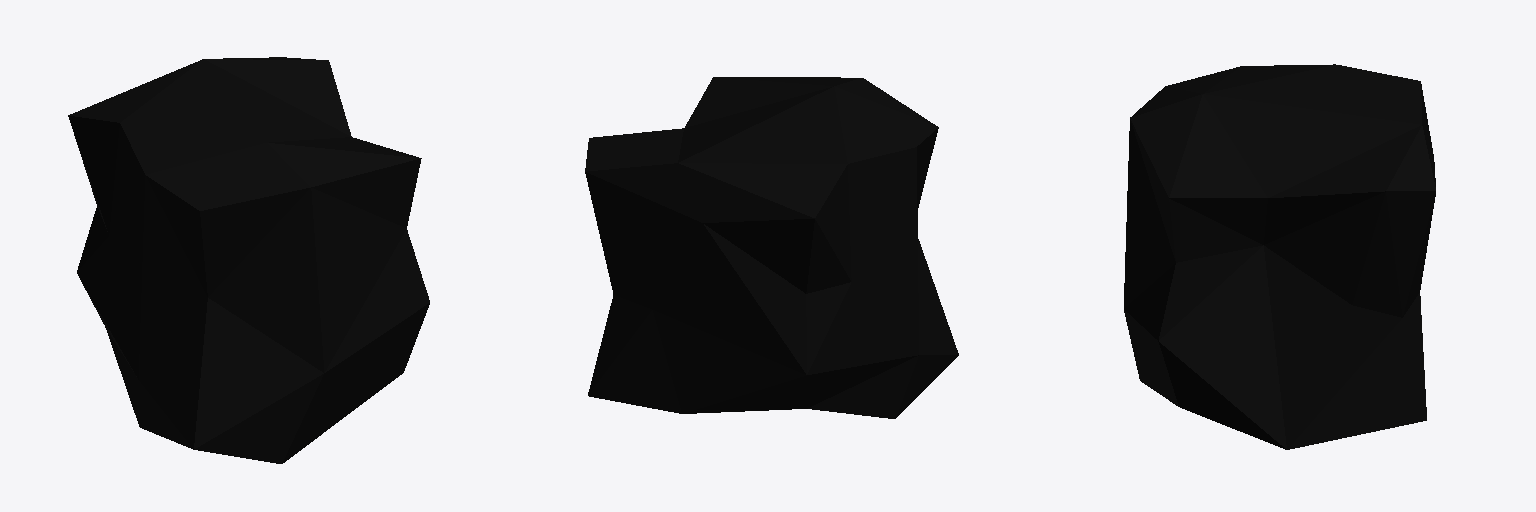
Rendered from lowPolyRock2.obj.
3 renders of one model, left to right at view 1: azimuth 30°, elevation 25°; view 2: azimuth 150°, elevation 25°; view 3: azimuth 270°, elevation 25°, orthographic.
Parts seen in each view (by area): view 1: rock2_Cube.003; view 2: rock2_Cube.003; view 3: rock2_Cube.003.
Part boxes in pixels (left/top/right/bottom): rock2_Cube.003: left=68, top=57, right=429, bottom=463; rock2_Cube.003: left=585, top=77, right=958, bottom=418; rock2_Cube.003: left=1124, top=64, right=1435, bottom=449.
Size of the model in its own units: 2.66 by 2.81 by 2.68.